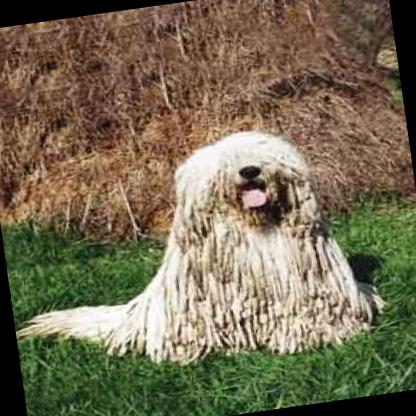komondor: (0, 109, 394, 391)
